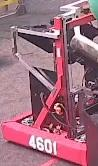red_number: (27, 133, 58, 157)
